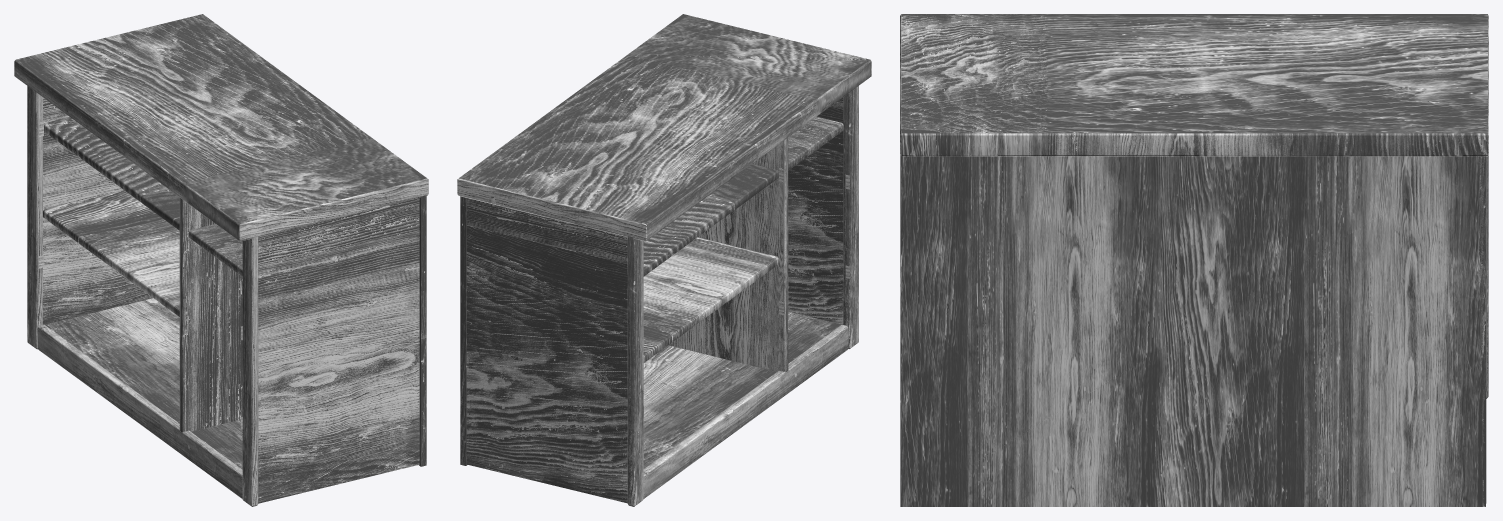
Rendered from SM_KitchenSet_A6.fbx.
3 views of the same model, side by side, from view 1: azimuth 30°, elevation 25°; view 2: azimuth 150°, elevation 25°; view 3: azimuth 270°, elevation 25° (orthographic). The views are drawn at different scales.
Parts seen in each view (by area): view 1: SM_KitchenSet_A6; view 2: SM_KitchenSet_A6; view 3: SM_KitchenSet_A6.
Boxes of the visible parts, x1,y1,x2,y2 form: SM_KitchenSet_A6: [14, 14, 428, 506]; SM_KitchenSet_A6: [457, 14, 871, 506]; SM_KitchenSet_A6: [900, 14, 1488, 506].
Bounding box in the file's own units: 58.5 × 120 × 84.38.
Materials: 2 (2 with a texture image).
